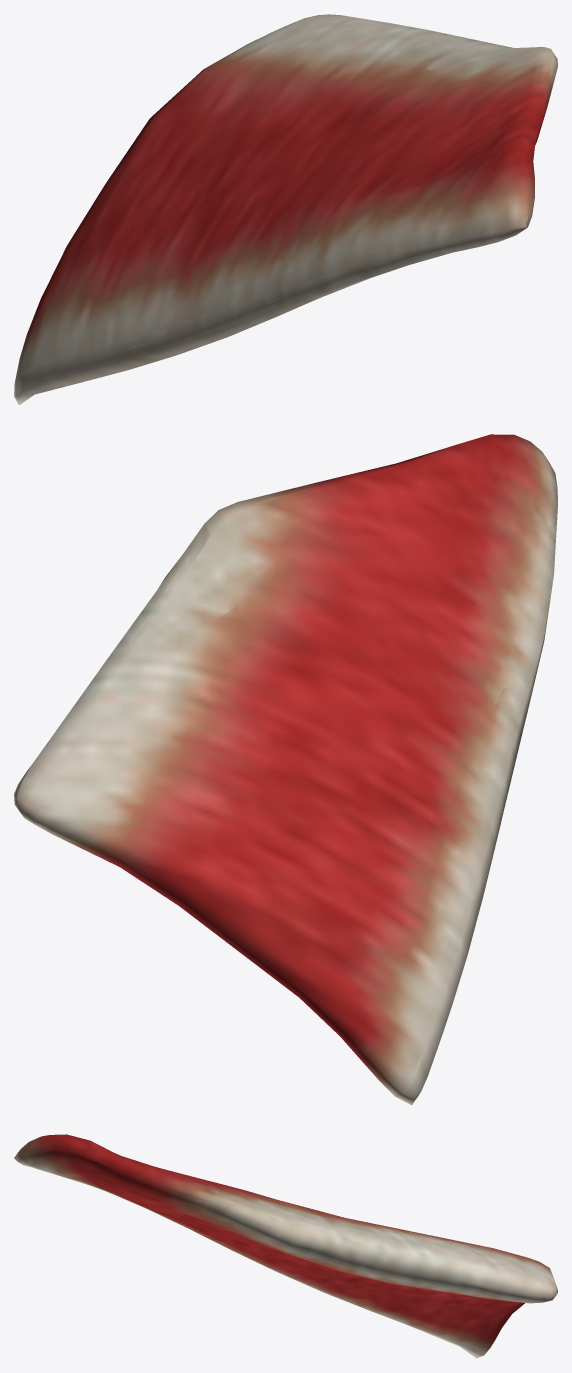
The model's file is R Gluteus Medius.fbx.
3 renders of one model, top to bottom at view 1: azimuth 30°, elevation 25°; view 2: azimuth 150°, elevation 25°; view 3: azimuth 270°, elevation 25°, orthographic. The views are drawn at different scales.
Parts seen in each view (by area): view 1: R Gluteus Medius, R Gluteus Medius low, R Gluteus Medius high; view 2: R Gluteus Medius, R Gluteus Medius low, R Gluteus Medius high; view 3: R Gluteus Medius, R Gluteus Medius low, R Gluteus Medius high.
Part boxes in pixels (<box>): R Gluteus Medius: <box>14,14,557,404</box>; R Gluteus Medius low: <box>15,18,556,405</box>; R Gluteus Medius high: <box>19,16,554,395</box>; R Gluteus Medius: <box>14,434,557,1105</box>; R Gluteus Medius low: <box>15,435,557,1102</box>; R Gluteus Medius high: <box>29,440,548,1090</box>; R Gluteus Medius: <box>14,1134,557,1358</box>; R Gluteus Medius low: <box>22,1134,556,1356</box>; R Gluteus Medius high: <box>18,1137,550,1352</box>.
Bounding box in the file's own units: 3.07 × 3.17 × 5.26.
Materials: 1 (1 with a texture image).
